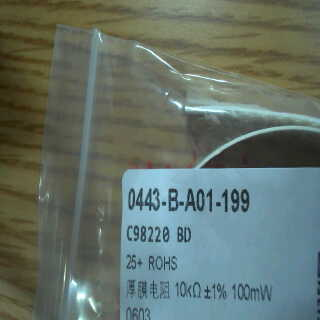10kR: (174, 278, 206, 301)
